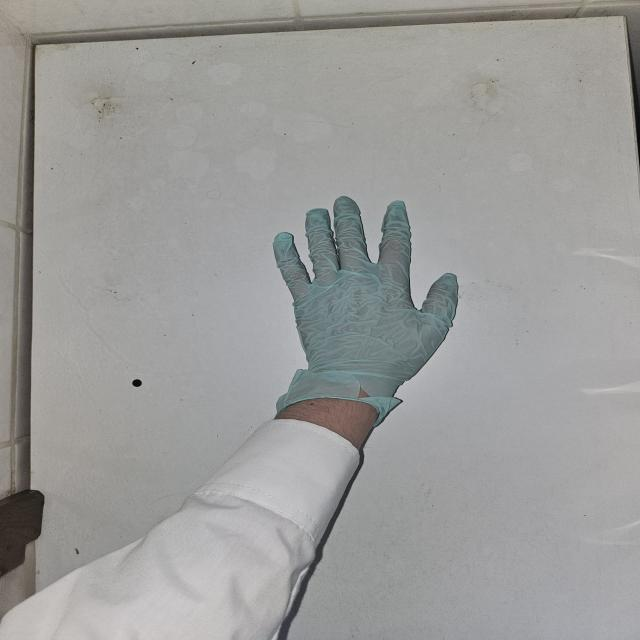gloves_damaged: (274, 194, 458, 424)
